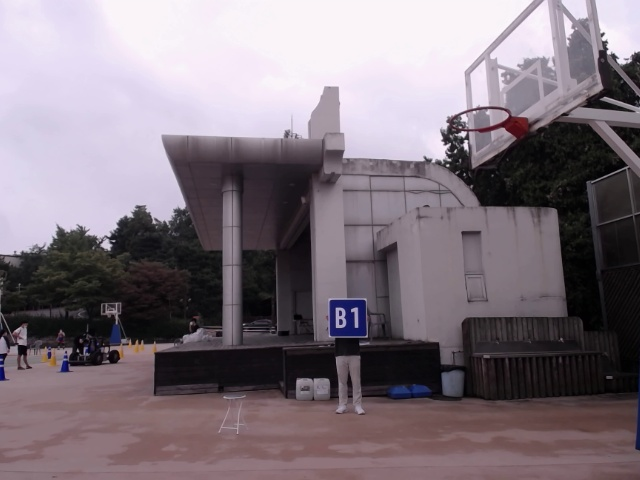delivery_b1: (327, 299, 368, 337)
